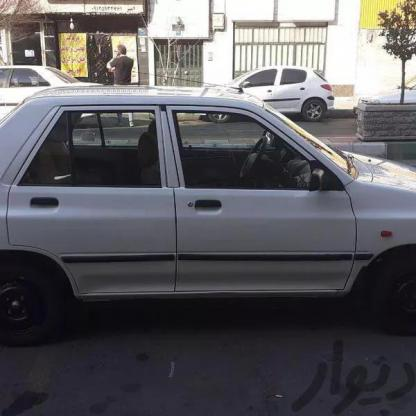Car: (0, 84, 416, 378), (166, 66, 336, 146), (0, 58, 73, 124)
